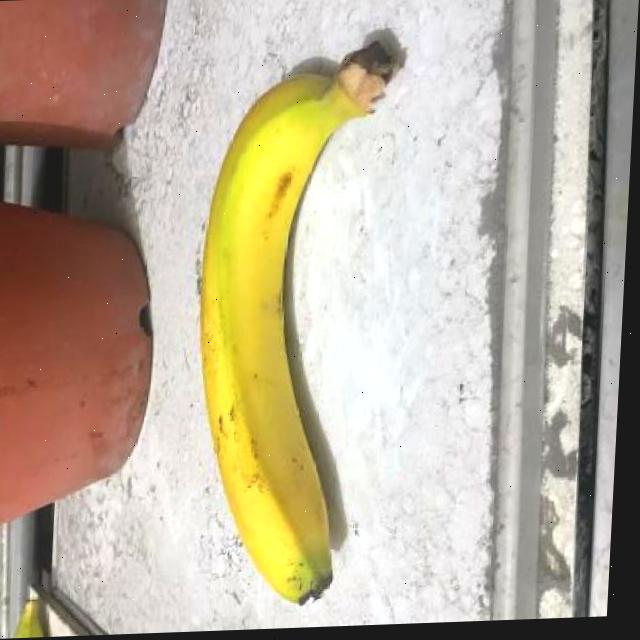banana: (178, 34, 399, 612)
